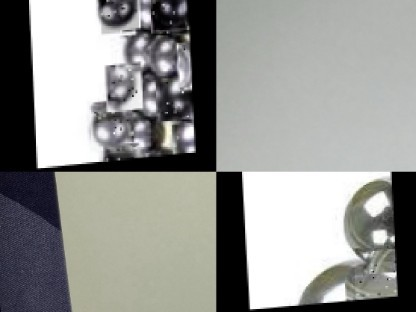ironball: (342, 176, 397, 248), (298, 263, 396, 301), (86, 101, 129, 151), (104, 63, 141, 112), (154, 77, 192, 123), (151, 0, 188, 37), (99, 0, 138, 34), (169, 124, 193, 157), (175, 44, 191, 93), (96, 147, 140, 164)
